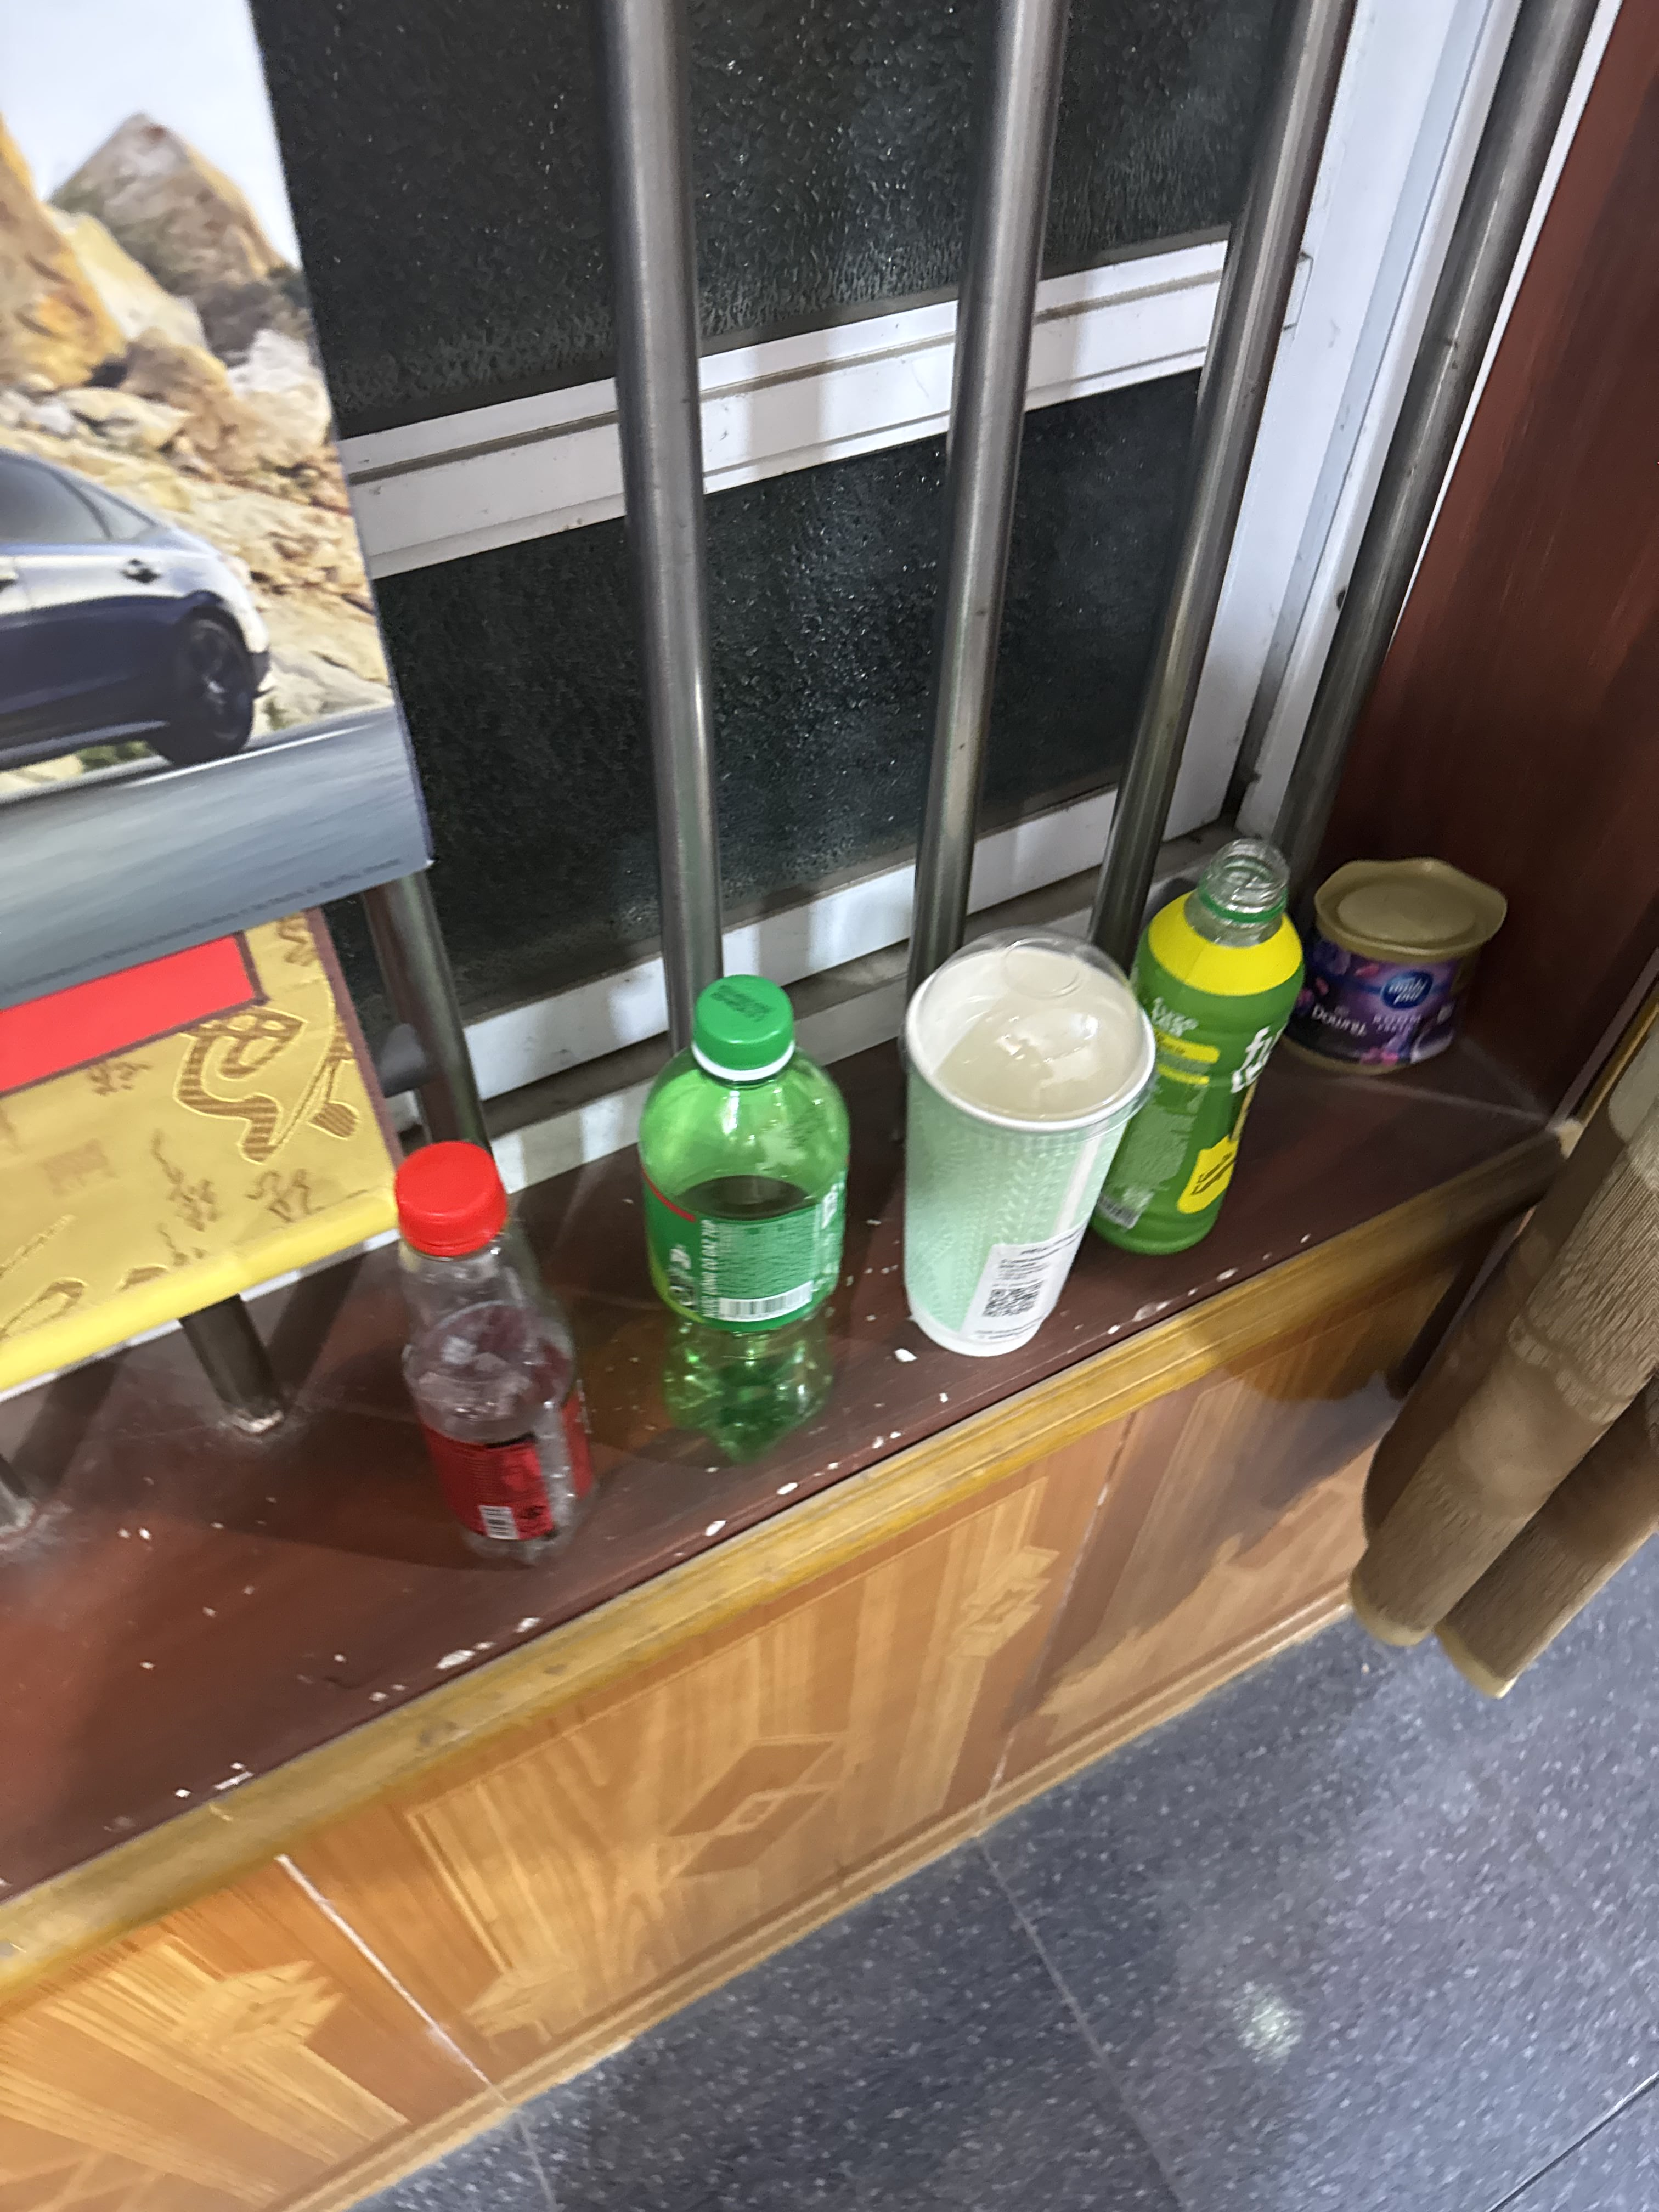2: (877, 897, 1162, 1413)
bottle: (619, 951, 889, 1486), (366, 1122, 629, 1581), (1079, 819, 1338, 1284)
